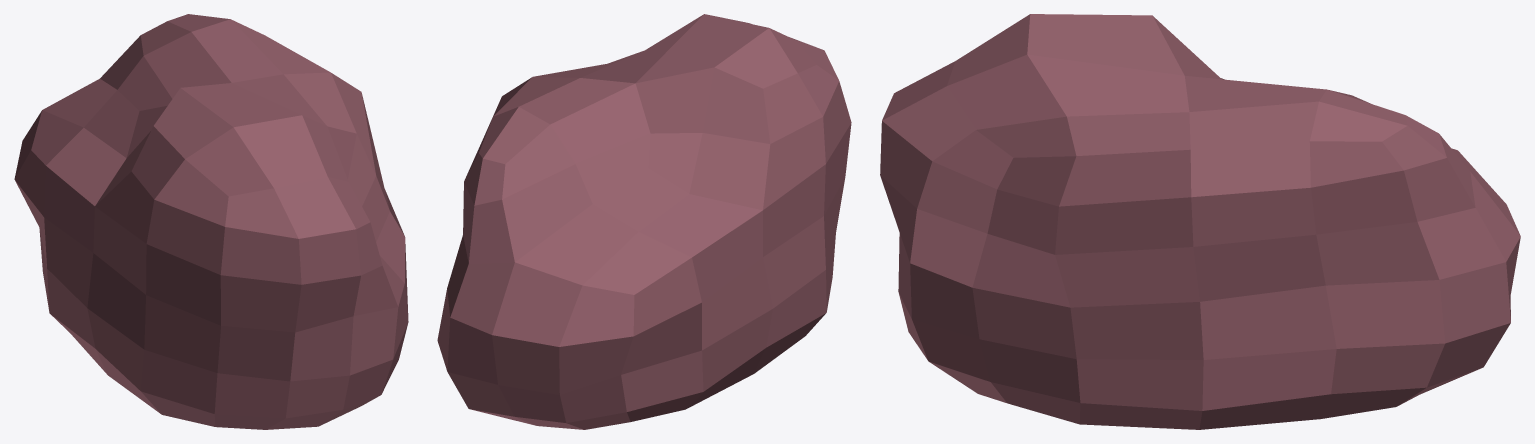
Rendered from Rock_03_Lod1.fbx.
The picture shows the model from 3 angles, left to right: view 1: azimuth 30°, elevation 25°; view 2: azimuth 150°, elevation 25°; view 3: azimuth 270°, elevation 25°; orthographic projection. The views are drawn at different scales.
Parts seen in each view (by area): view 1: Rock_03_Lod1; view 2: Rock_03_Lod1; view 3: Rock_03_Lod1.
Boxes of the visible parts, left/top/right/bottom form: Rock_03_Lod1: left=14, top=14, right=408, bottom=429; Rock_03_Lod1: left=437, top=14, right=851, bottom=429; Rock_03_Lod1: left=880, top=14, right=1520, bottom=429.
Bounding box in the file's own units: 194 × 203 × 347.
